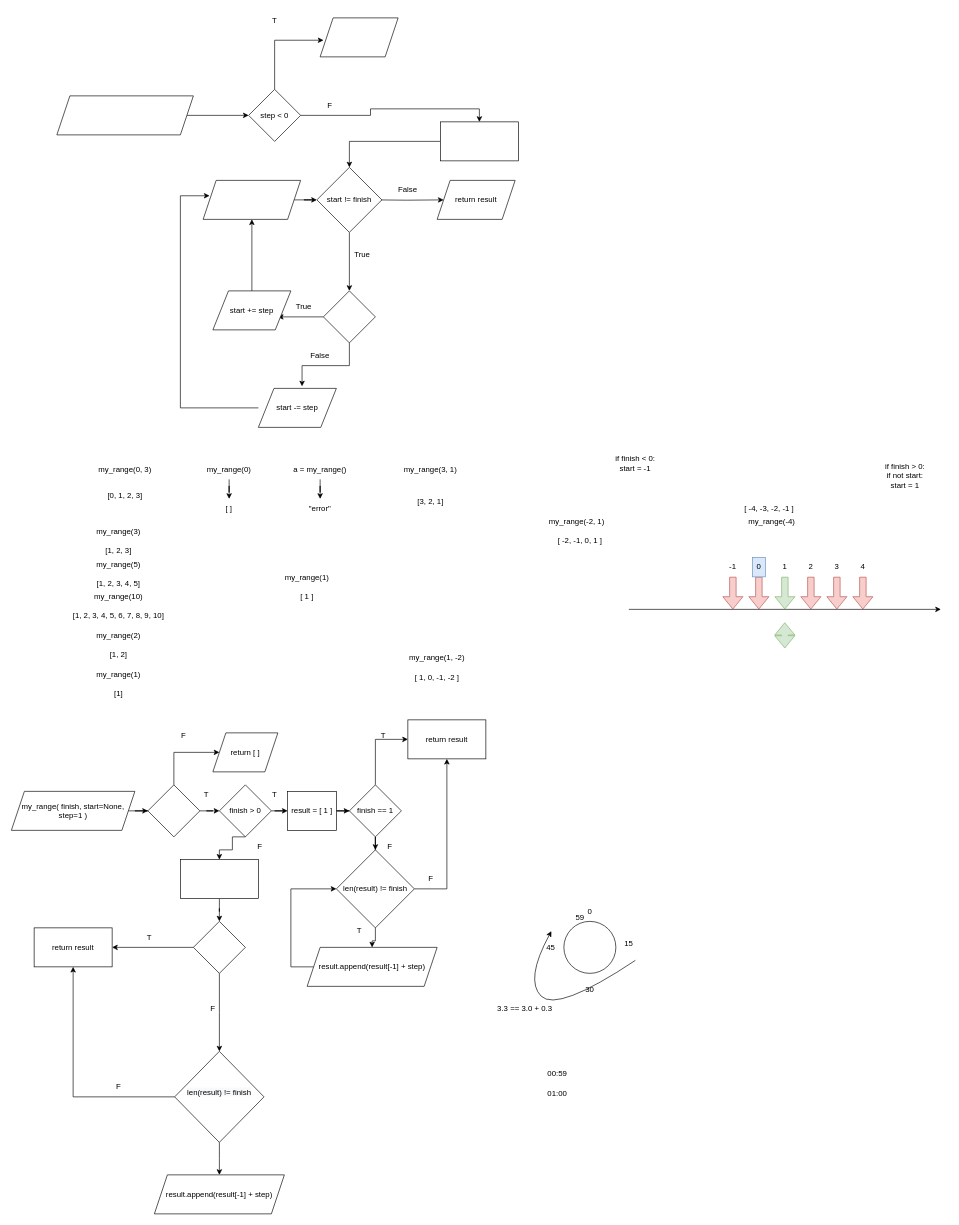
Image size: 959x1225. Some labels were removed from this diagram. Here are the shapes that lost their labels. From the top down, the box of each, then its label:
(319, 17, 398, 57): return "hint"
(56, 95, 193, 135): my_range(start=1, finish=1, step=1)
(440, 121, 518, 161): result = [start]
(202, 180, 301, 219): result.append(start)
(323, 290, 375, 343): start < finish
(147, 784, 200, 837): finish
(180, 859, 258, 899): result = [ -1 ]
(193, 921, 245, 973): finish == -1
